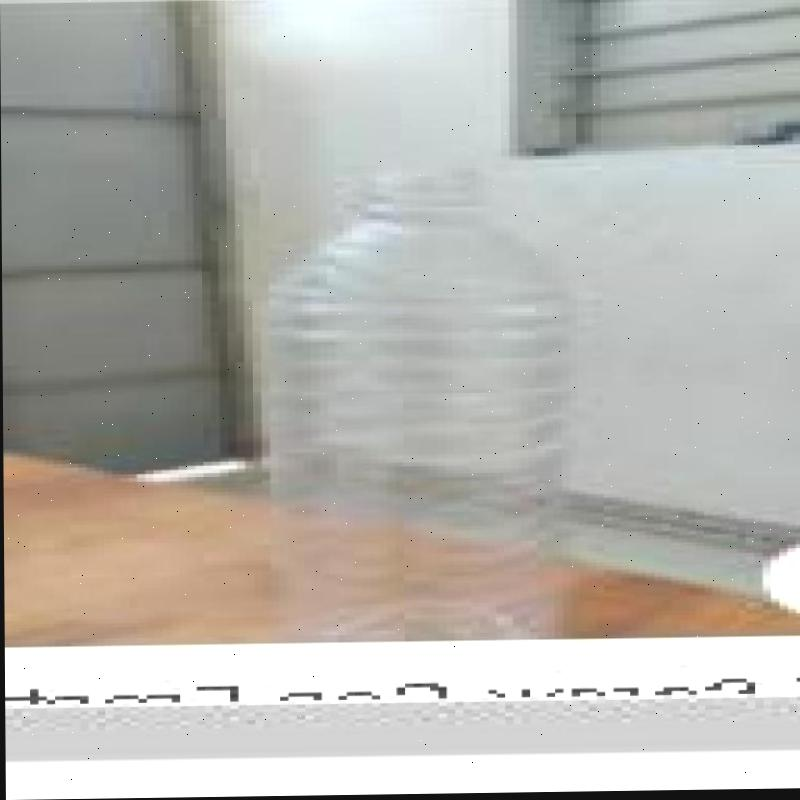botella: (265, 170, 599, 646)
